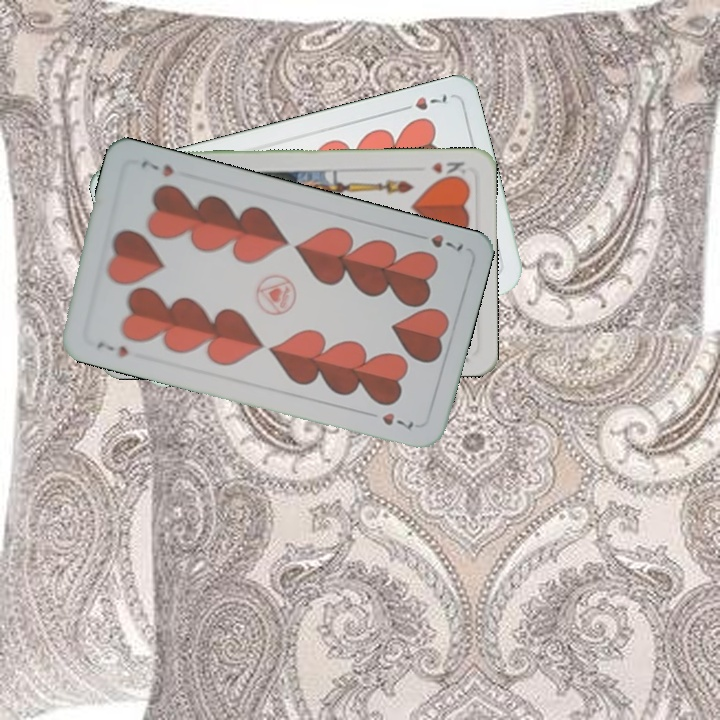H7: (394, 90, 450, 114), (426, 230, 466, 254), (92, 337, 131, 360)
HK: (427, 157, 468, 182)
